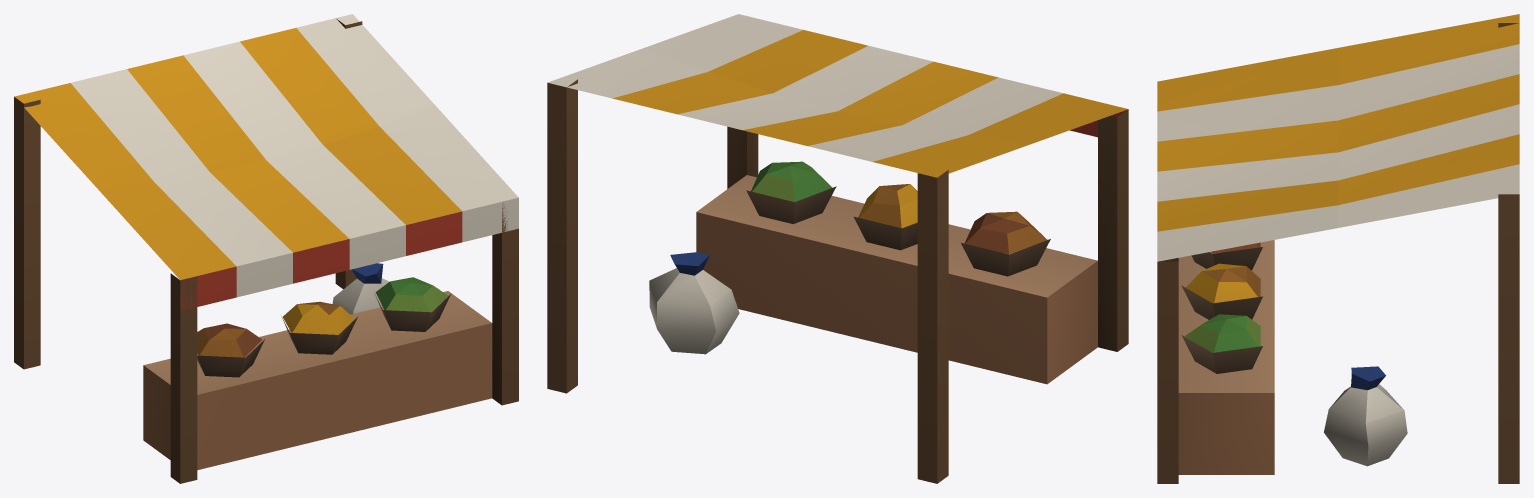
File: etal.glb
3 renders of one model, left to right at view 1: azimuth 30°, elevation 25°; view 2: azimuth 150°, elevation 25°; view 3: azimuth 270°, elevation 25°, orthographic. The views are drawn at different scales.
Parts seen in each view (by area): view 1: etal; view 2: etal; view 3: etal.
Part boxes in pixels (bbox=[...]): etal: bbox=[14, 14, 518, 483]; etal: bbox=[547, 14, 1128, 483]; etal: bbox=[1157, 14, 1519, 483].
Size of the model in its own units: 0.8 by 0.6 by 0.68.
